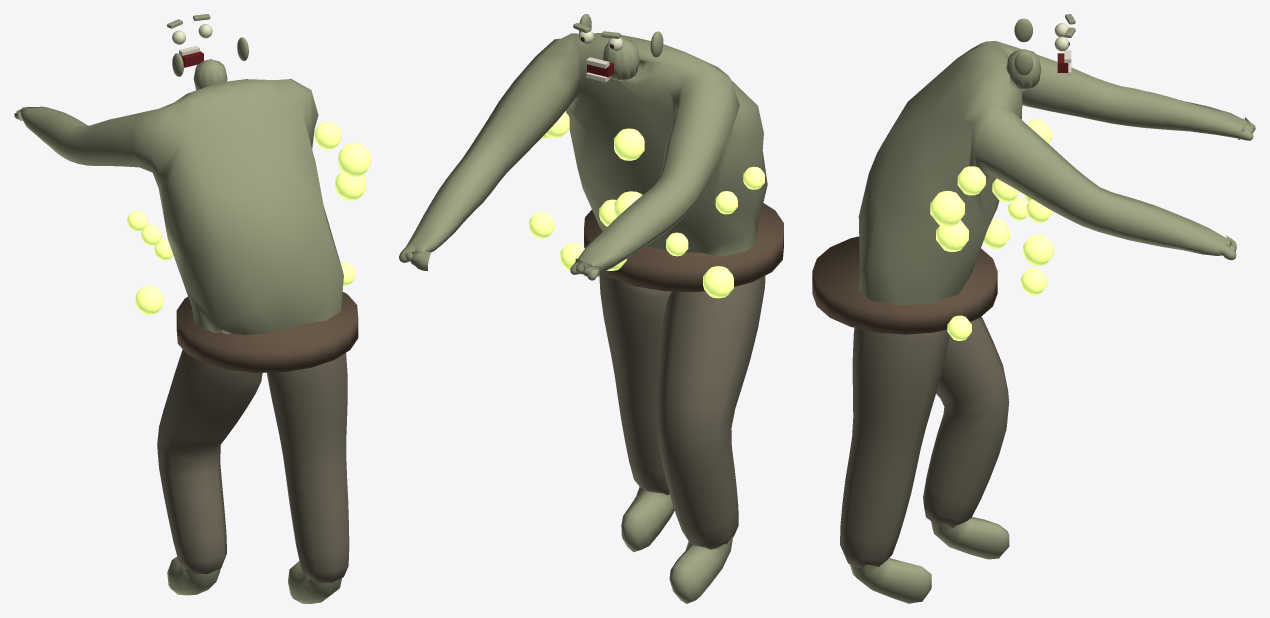
The model's file is zombie_bloater.glb.
3 renders of one model, left to right at view 1: azimuth 30°, elevation 25°; view 2: azimuth 150°, elevation 25°; view 3: azimuth 270°, elevation 25°, orthographic. The views are drawn at different scales.
Parts seen in each view (by area): view 1: body, pants, belt, head, boil.009, boil.004, boil.006, boil.013; view 2: body, pants, belt, head, boil, boil.006, boil.012; view 3: body, pants, belt, head, boil.009, boil.001, boil.004, boil.013, boil.006, boil.002.
Boxes of the visible parts, x1=… form: body: x1=14, y1=78, x2=343, y2=603; pants: x1=157, y1=329, x2=349, y2=582; belt: x1=176, y1=292, x2=358, y2=372; head: x1=172, y1=37, x2=248, y2=90; boil.009: x1=338, y1=143, x2=370, y2=177; boil.004: x1=335, y1=171, x2=365, y2=200; boil.006: x1=135, y1=286, x2=163, y2=315; boil.013: x1=314, y1=122, x2=341, y2=149; body: x1=399, y1=33, x2=767, y2=603; pants: x1=599, y1=272, x2=765, y2=549; belt: x1=584, y1=203, x2=783, y2=292; head: x1=579, y1=14, x2=663, y2=81; boil: x1=614, y1=128, x2=644, y2=160; boil.006: x1=703, y1=266, x2=733, y2=298; boil.012: x1=529, y1=212, x2=554, y2=238; body: x1=850, y1=41, x2=1255, y2=603; pants: x1=840, y1=316, x2=1009, y2=568; belt: x1=812, y1=236, x2=997, y2=334; head: x1=1006, y1=18, x2=1041, y2=89; boil.009: x1=930, y1=191, x2=964, y2=226; boil.001: x1=1023, y1=234, x2=1053, y2=265; boil.004: x1=936, y1=220, x2=968, y2=251; boil.013: x1=957, y1=166, x2=985, y2=195; boil.006: x1=983, y1=218, x2=1010, y2=248; boil.002: x1=1021, y1=268, x2=1047, y2=295.
Bounding box in the file's own units: 0.843 × 1.91 × 1.37.
